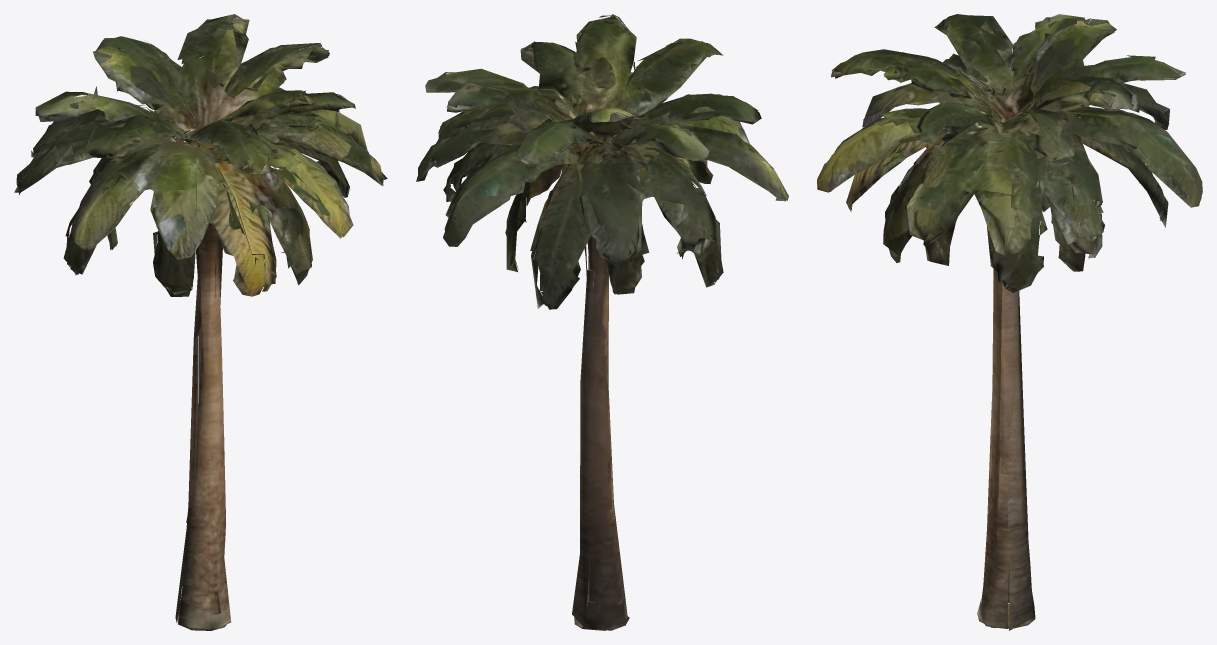
Rendered from palm-c.glb.
3 renders of one model, left to right at view 1: azimuth 30°, elevation 25°; view 2: azimuth 150°, elevation 25°; view 3: azimuth 270°, elevation 25°, orthographic. The views are drawn at different scales.
Visible parts, largest first — view 1: Mesh_0; view 2: Mesh_0; view 3: Mesh_0.
Part boxes in pixels (x1,y1,x2,y2): Mesh_0: (14, 14, 387, 630); Mesh_0: (416, 14, 788, 630); Mesh_0: (817, 14, 1202, 630).
Size of the model in its own units: 6.69 by 11.03 by 6.75.
Materials: 1 (1 with a texture image).
